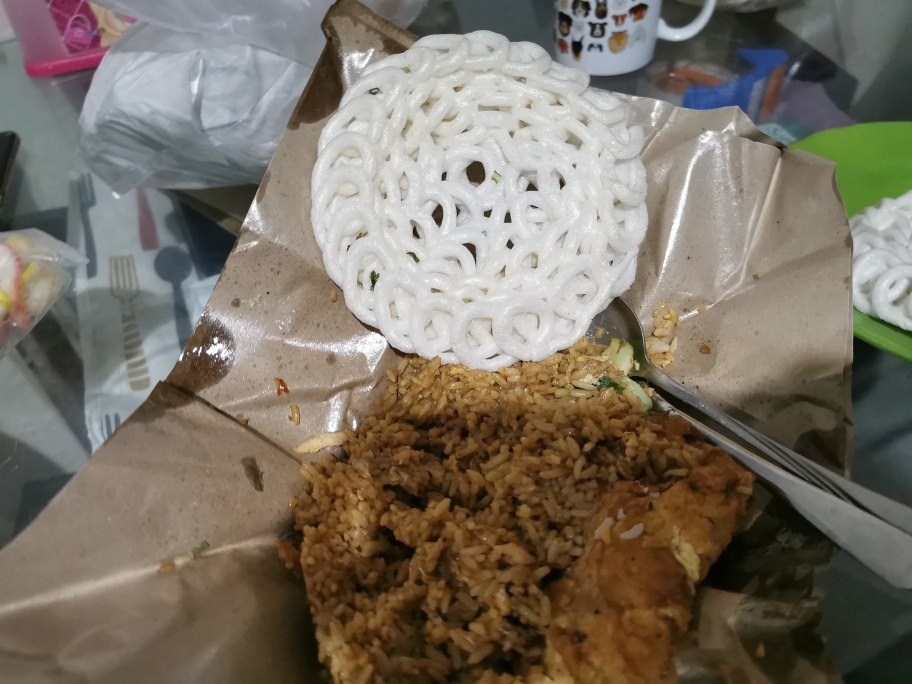kerupuk: (314, 39, 654, 356)
nasi goreng: (298, 357, 753, 681)
